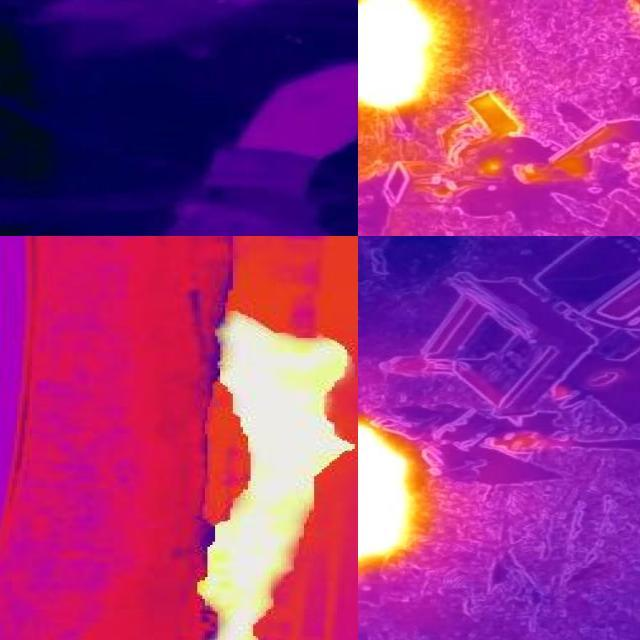fire: (174, 289, 359, 640), (359, 416, 432, 576), (359, 1, 442, 112)
